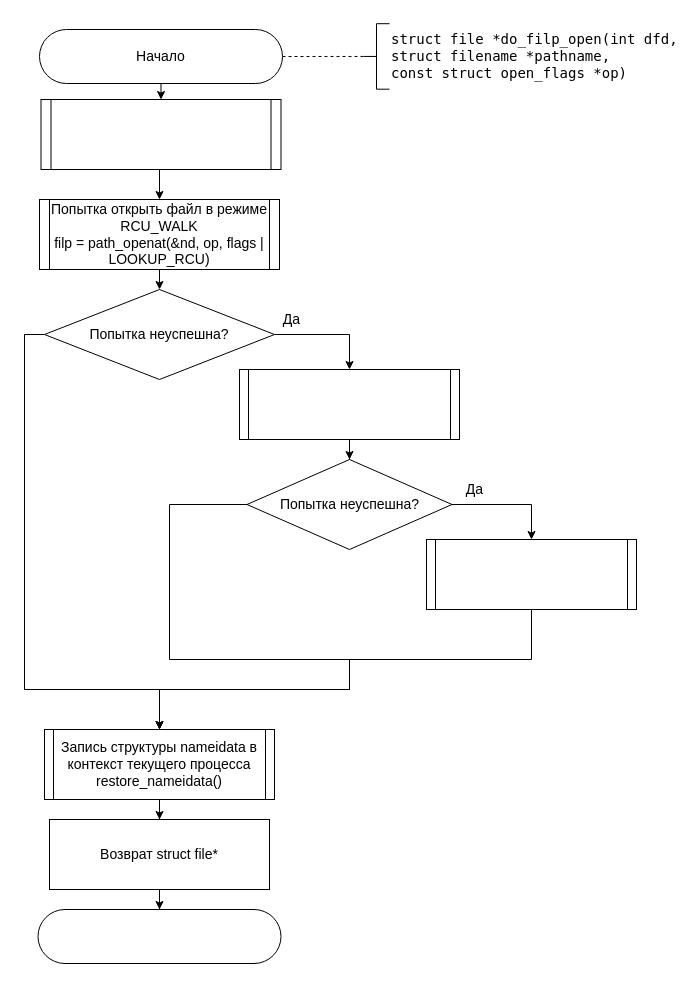
This 696x981 diagram has some shape labels left out. The centre of each missing label's shape, as x and y in pixels:
filp = path_openat(&nd, op, flags | LOOKUP_REVAL): (x=531, y=574)
Инициализация struct nameidata set_nameidata(&nd, dfd, pathname, NULL): (x=160, y=134)
Конец: (x=159, y=936)
Попытка открыть файл в нормальном режиме filp = path_openat(&nd, op, flags): (x=349, y=404)
